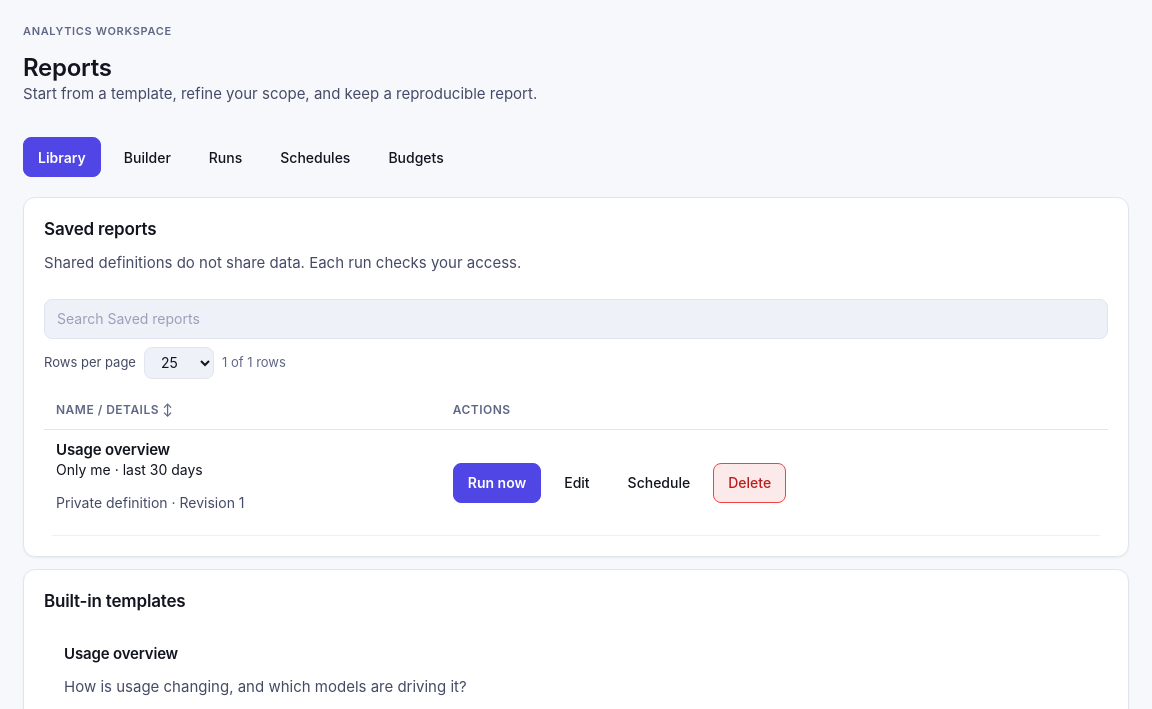
it: confirms saved report deletion and refreshes the library
Expected: the button with aria-label "Edit Usage overview" is shown, [549,463,605,503]
Click the button with aria-label "Delete Usage overview" at (750, 483), box [713,463,786,503]
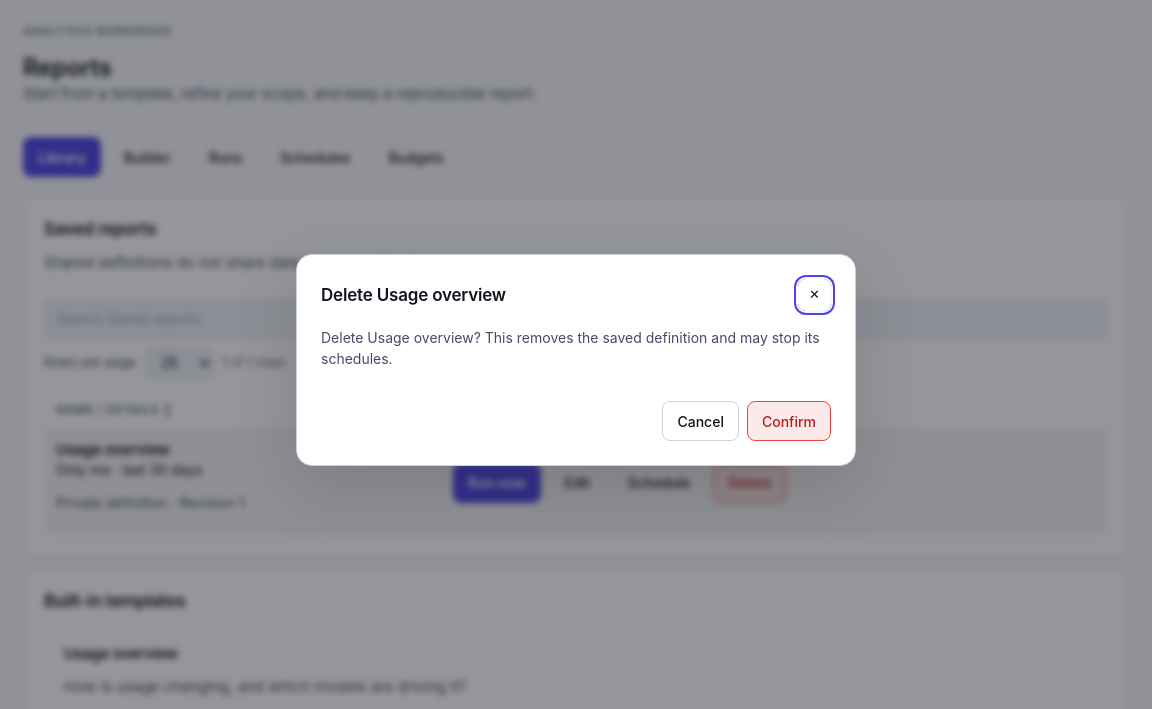
Click the button "Cancel" at (701, 421), box [662,401,739,441]
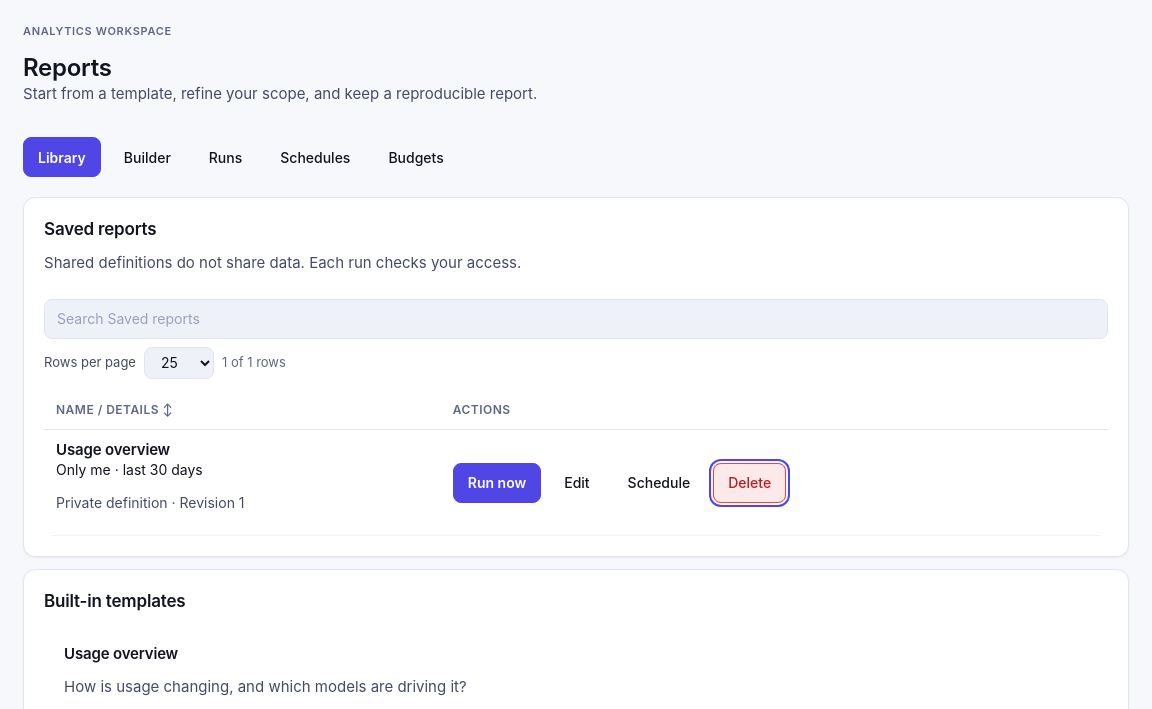
Click the button with aria-label "Delete Usage overview" at (750, 483), box [713,463,786,503]
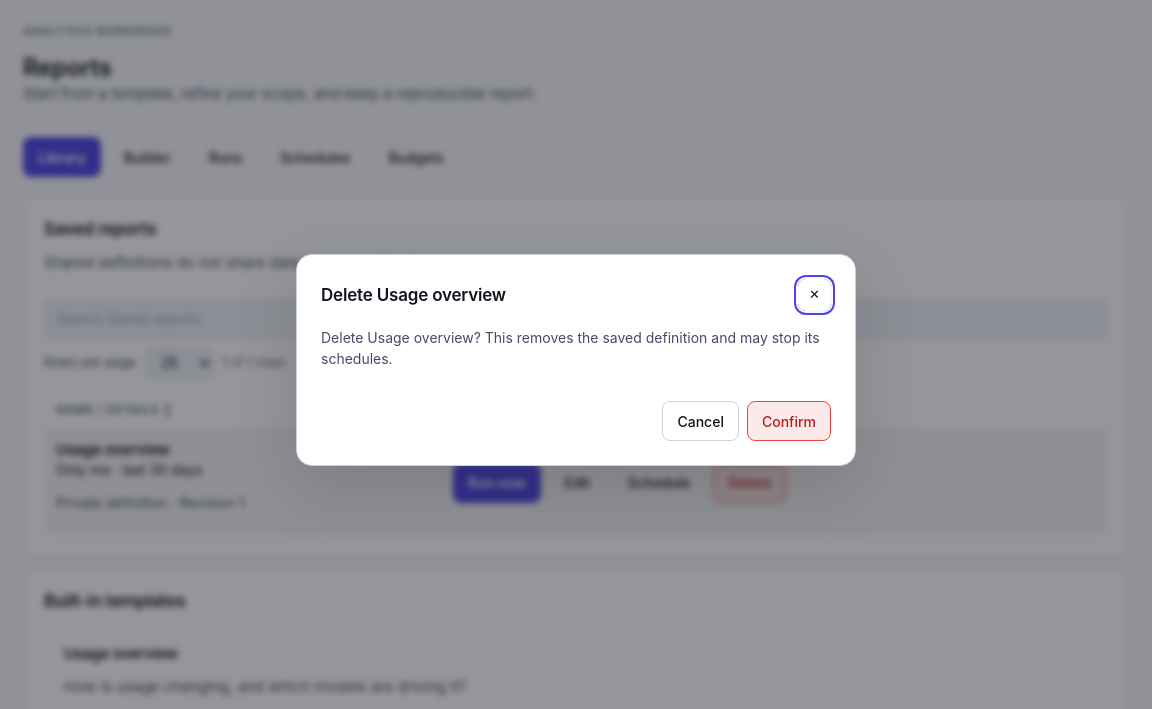
Click the button "Confirm" at (789, 421), box [747,401,831,441]
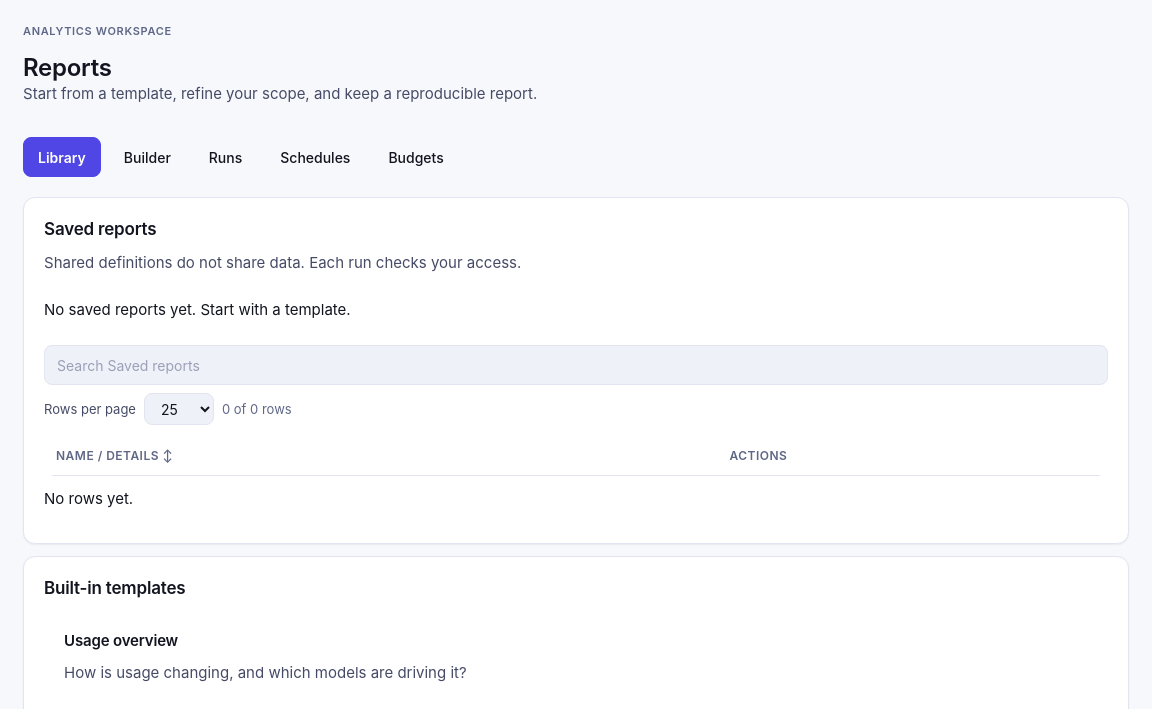
Result: the text "No saved reports yet. Start with a template." is shown at [44,300,351,319]
